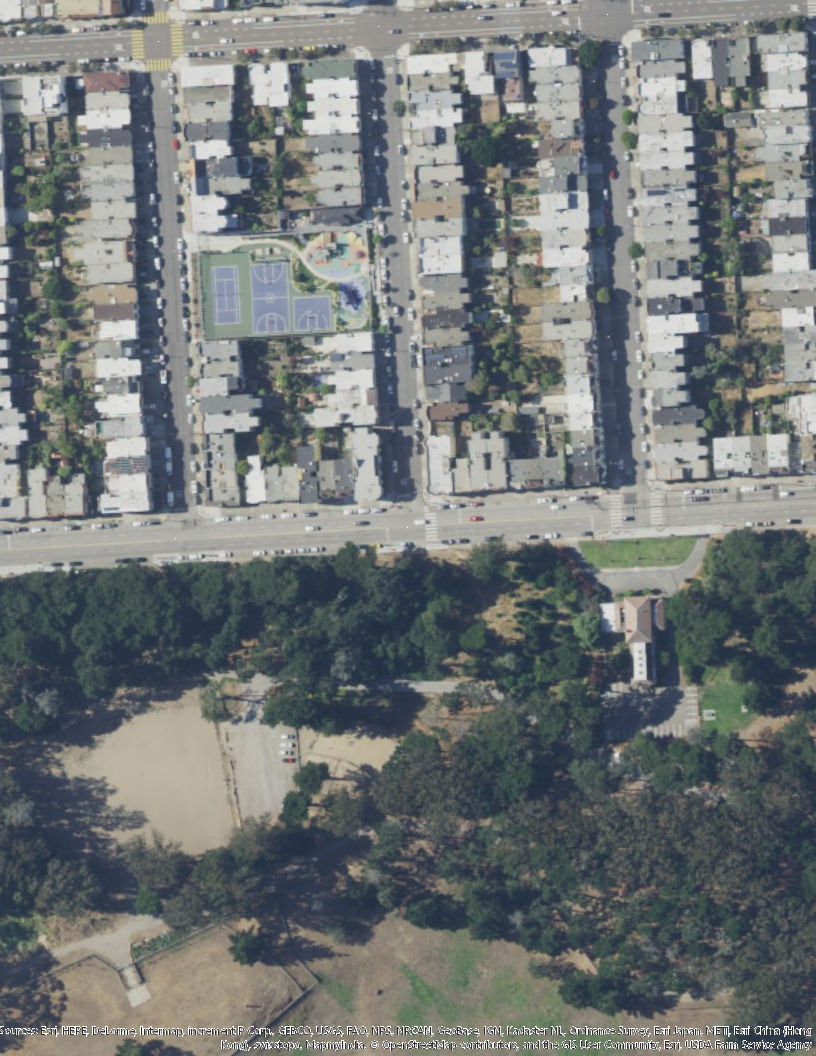zebracross: (130, 26, 146, 60), (169, 24, 184, 58), (610, 493, 623, 530), (141, 9, 171, 24), (650, 491, 662, 528), (424, 514, 439, 541), (145, 58, 173, 72)
